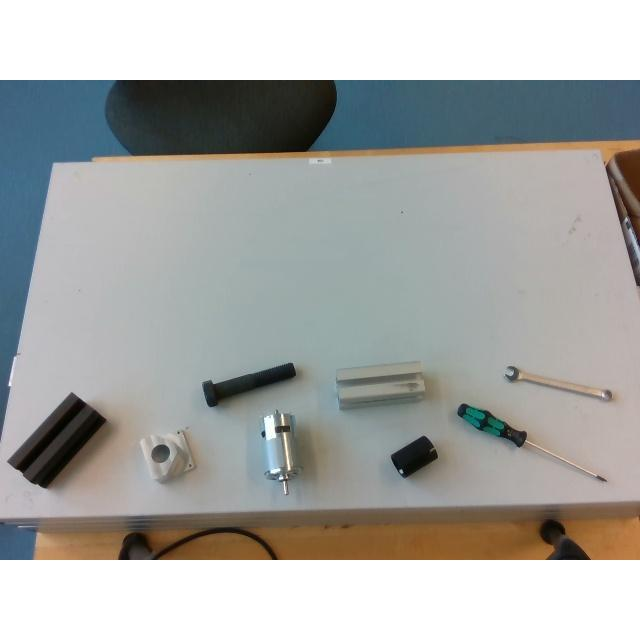M20_100: (202, 362, 294, 406)
Motor2: (256, 411, 304, 497)
S40_40_B: (8, 393, 104, 487)
S40_40_G: (336, 360, 424, 408)
Screwdriver: (458, 402, 606, 482)
